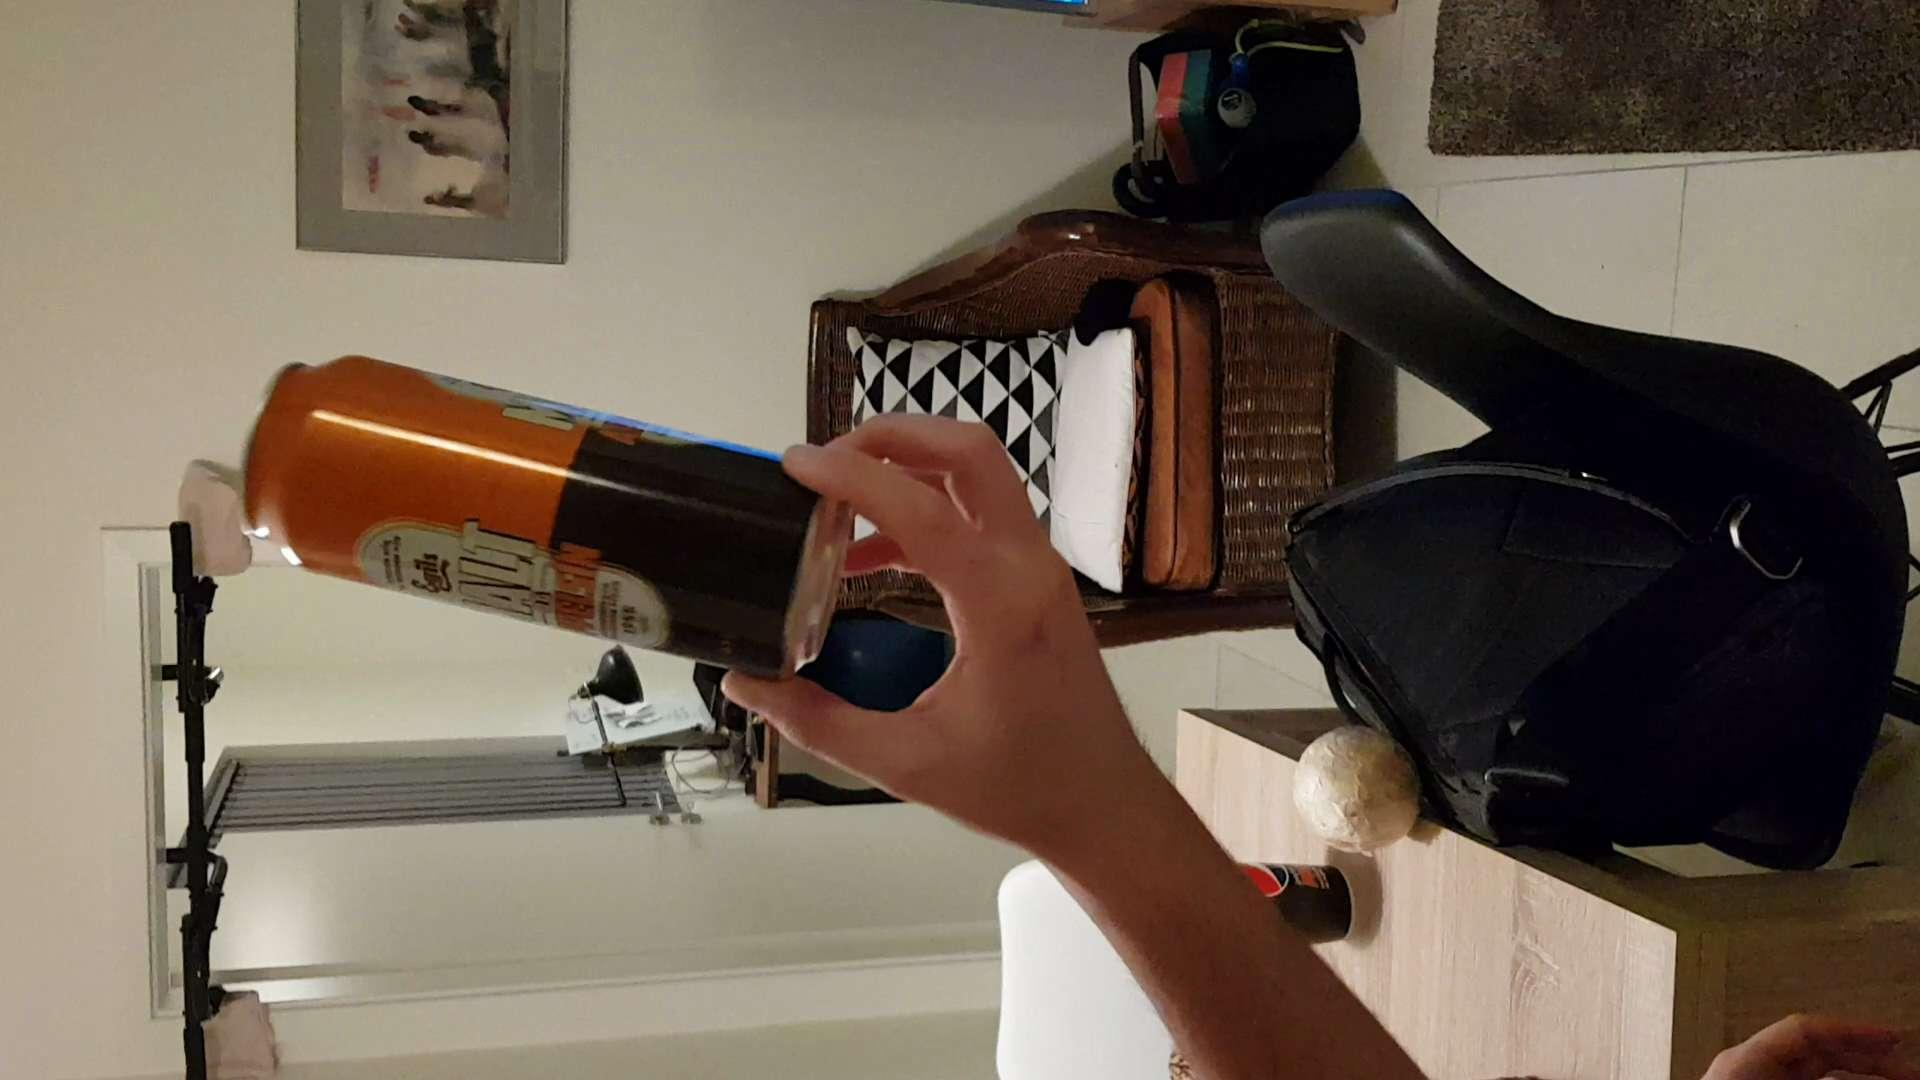Can: (232, 348, 858, 682)
